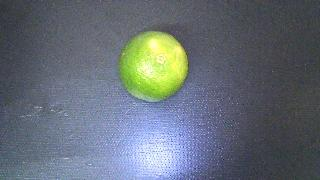EXPORTACION: (119, 31, 188, 102)
